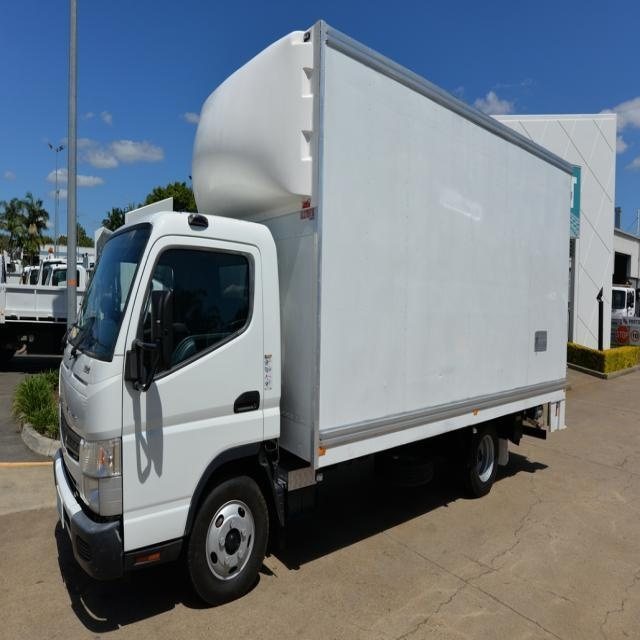Truck: (53, 17, 575, 601)
